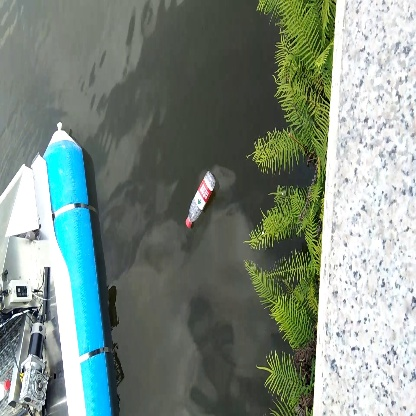bottle: (185, 170, 217, 231)
